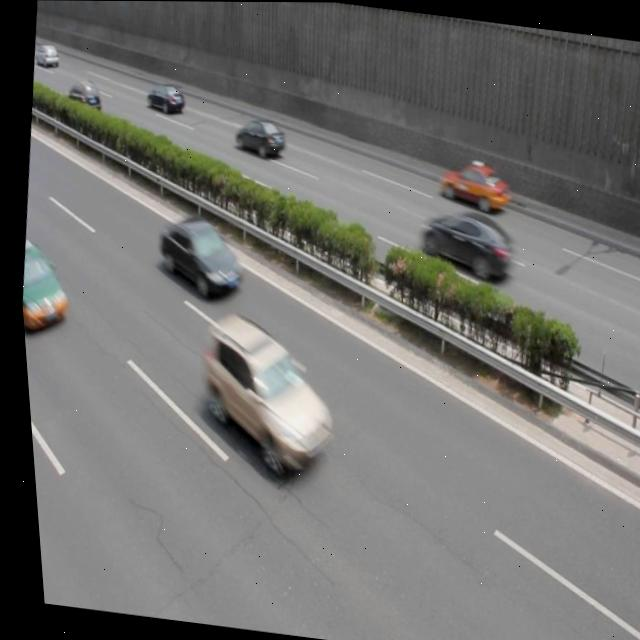car: (183, 308, 344, 483), (147, 214, 246, 303), (411, 200, 515, 283), (14, 243, 71, 336), (432, 153, 511, 216), (229, 113, 286, 162), (65, 76, 104, 115), (142, 79, 184, 115)
